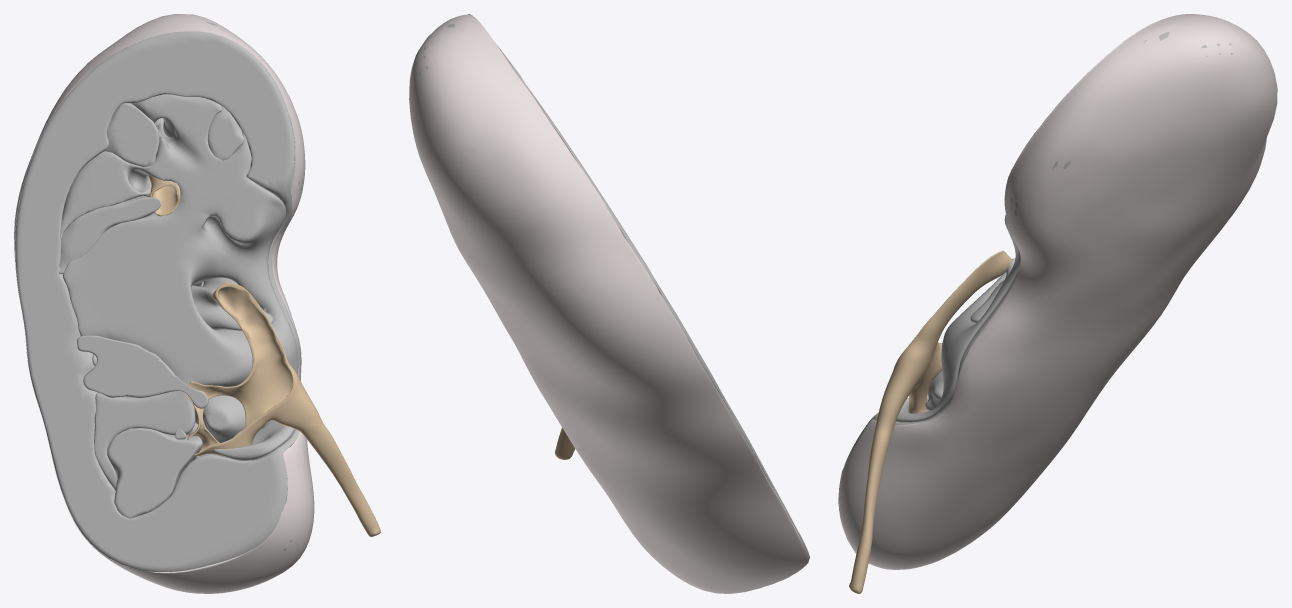
The model's file is VHM_Kidney_R_Bisect_Posterior.fbx.
3 renders of one model, left to right at view 1: azimuth 30°, elevation 25°; view 2: azimuth 150°, elevation 25°; view 3: azimuth 270°, elevation 25°, orthographic. The views are drawn at different scales.
Visible parts, largest first — view 1: VHM_Kidney_R_OuterCortex_Posterior, VHM_Kidney_R_RenalColumns_Posterior, VHM_Kidney_R_Pyramids_Posterior, VHM_Kidney_R_Capsule_Posterior, VHM_Kidney_R_Calyses_Posterior; view 2: VHM_Kidney_R_Capsule_Posterior, VHM_Kidney_R_OuterCortex_Posterior; view 3: VHM_Kidney_R_Capsule_Posterior, VHM_Kidney_R_Calyses_Posterior, VHM_Kidney_R_RenalColumns_Posterior, VHM_Kidney_R_Pyramids_Posterior, VHM_Kidney_R_OuterCortex_Posterior.
Part boxes in pixels (<box>): VHM_Kidney_R_OuterCortex_Posterior: <box>15,22,302,593</box>; VHM_Kidney_R_RenalColumns_Posterior: <box>60,94,298,490</box>; VHM_Kidney_R_Pyramids_Posterior: <box>58,103,273,518</box>; VHM_Kidney_R_Capsule_Posterior: <box>14,14,314,593</box>; VHM_Kidney_R_Calyses_Posterior: <box>147,175,380,536</box>; VHM_Kidney_R_Capsule_Posterior: <box>409,14,808,593</box>; VHM_Kidney_R_OuterCortex_Posterior: <box>417,19,809,560</box>; VHM_Kidney_R_Capsule_Posterior: <box>838,14,1277,569</box>; VHM_Kidney_R_Calyses_Posterior: <box>849,250,1011,593</box>; VHM_Kidney_R_RenalColumns_Posterior: <box>896,215,1020,422</box>; VHM_Kidney_R_Pyramids_Posterior: <box>925,258,1015,410</box>; VHM_Kidney_R_OuterCortex_Posterior: <box>839,32,1233,510</box>.
Size of the model in its own units: 7.81 by 14.07 by 9.55.
